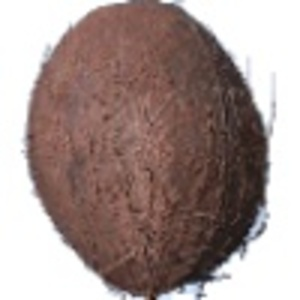coco: (23, 1, 272, 300)
